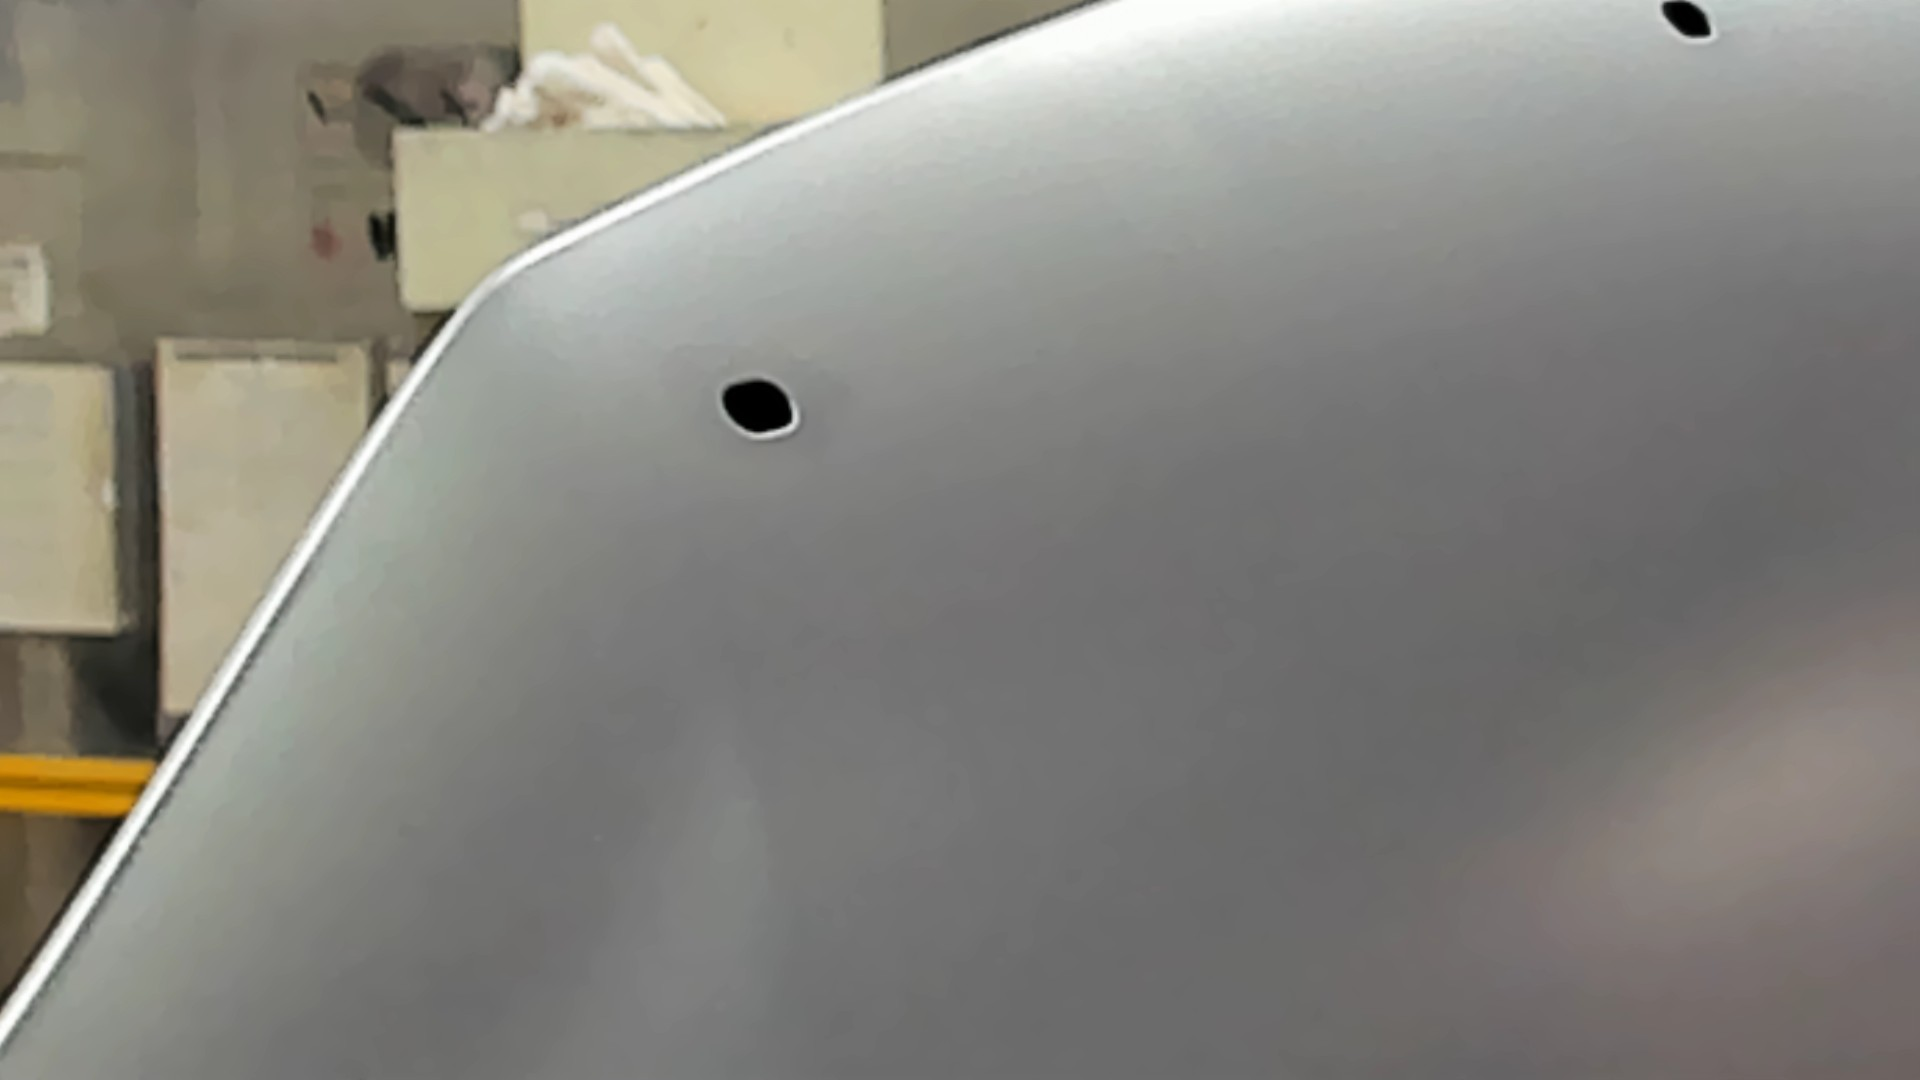amorfo: (705, 371, 810, 447), (1655, 1, 1716, 47)
capo: (913, 119, 1920, 1080)
